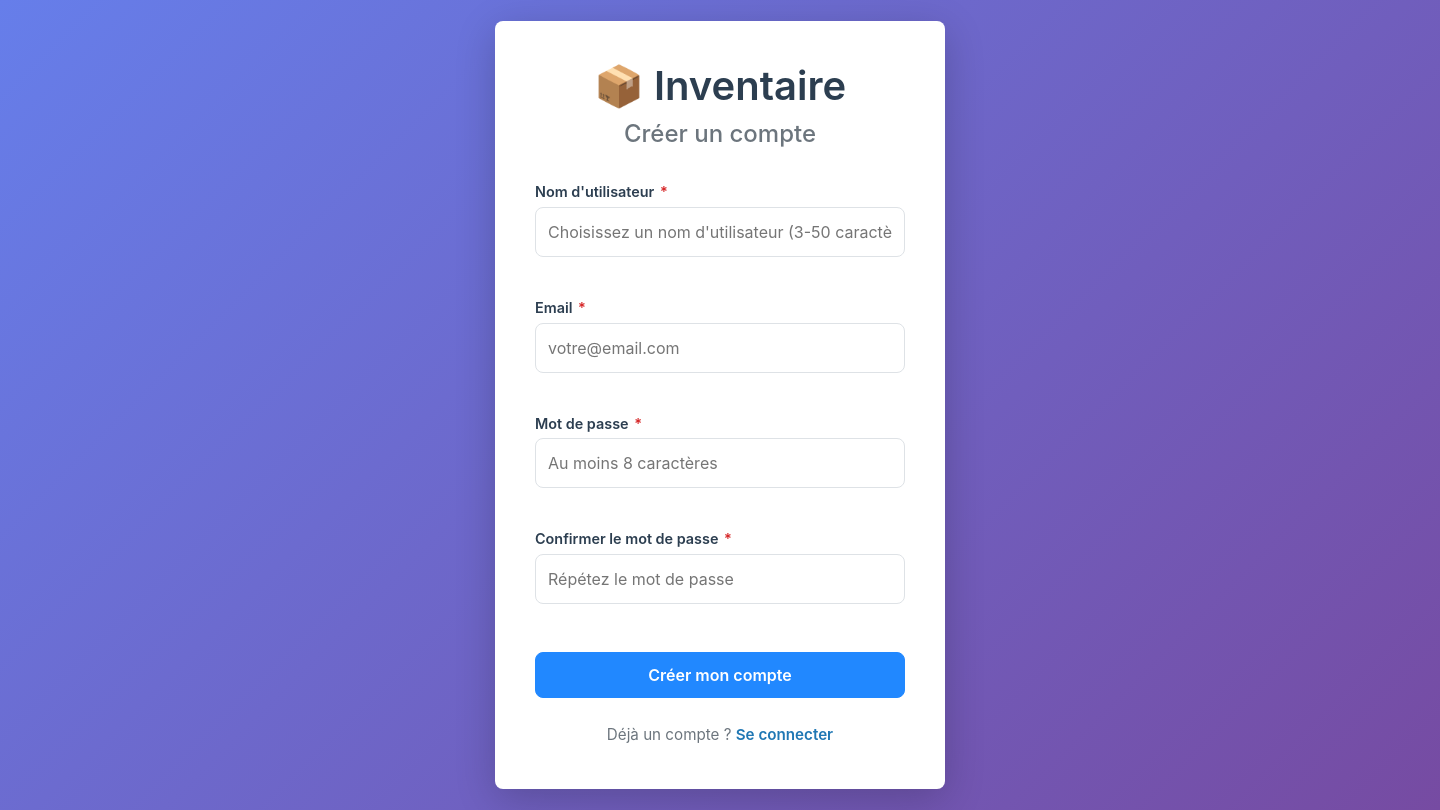
Scenario: Register › affiche une erreur si les mots de passe ne correspondent pas
The image size is (1440, 810).
Step 1. Type "testuser" into the field labelled "Nom d'utilisateur *" → (720, 232), box [535,207,905,257]
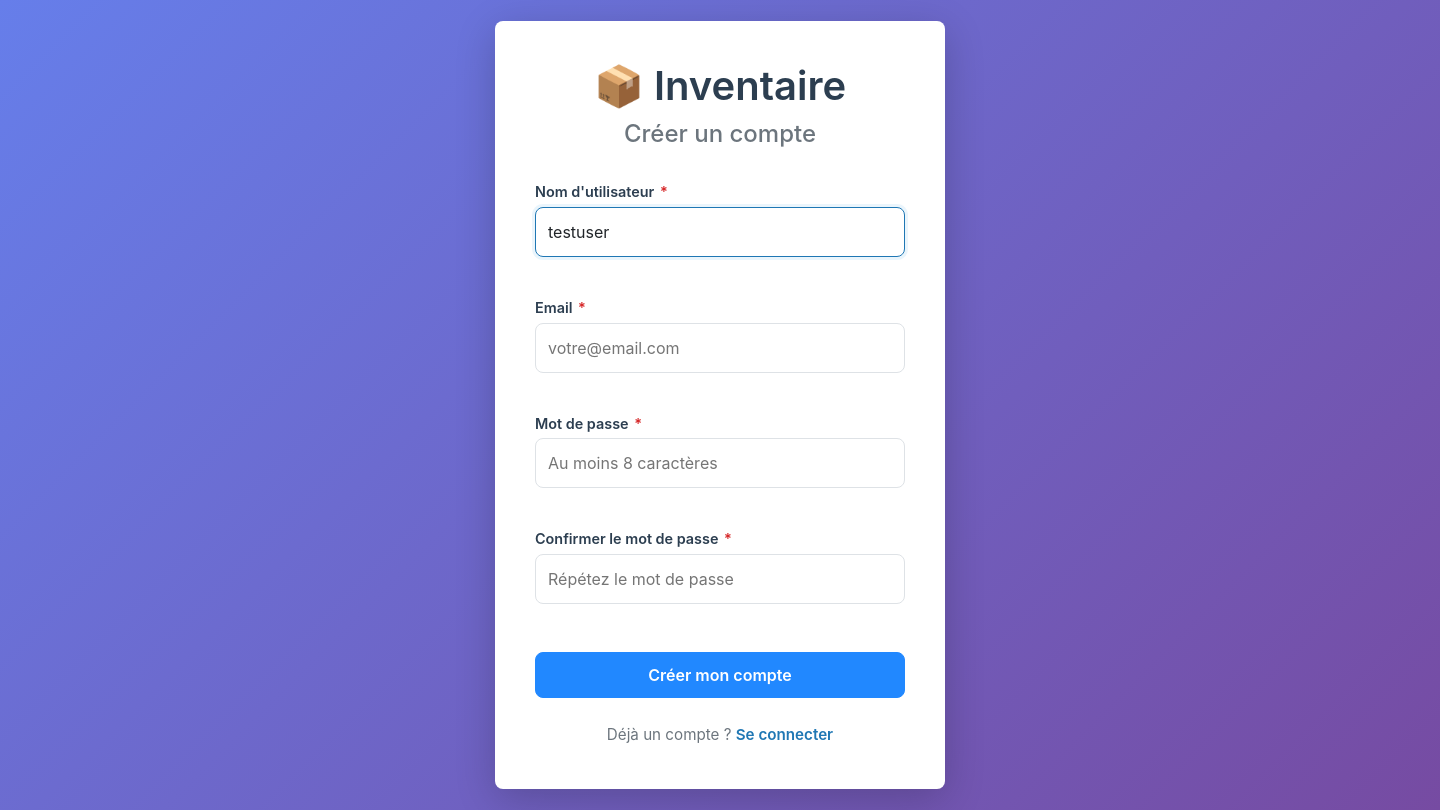
Step 2. Type "test@example.com" into the field labelled "Email *" → (720, 348), box [535,323,905,373]
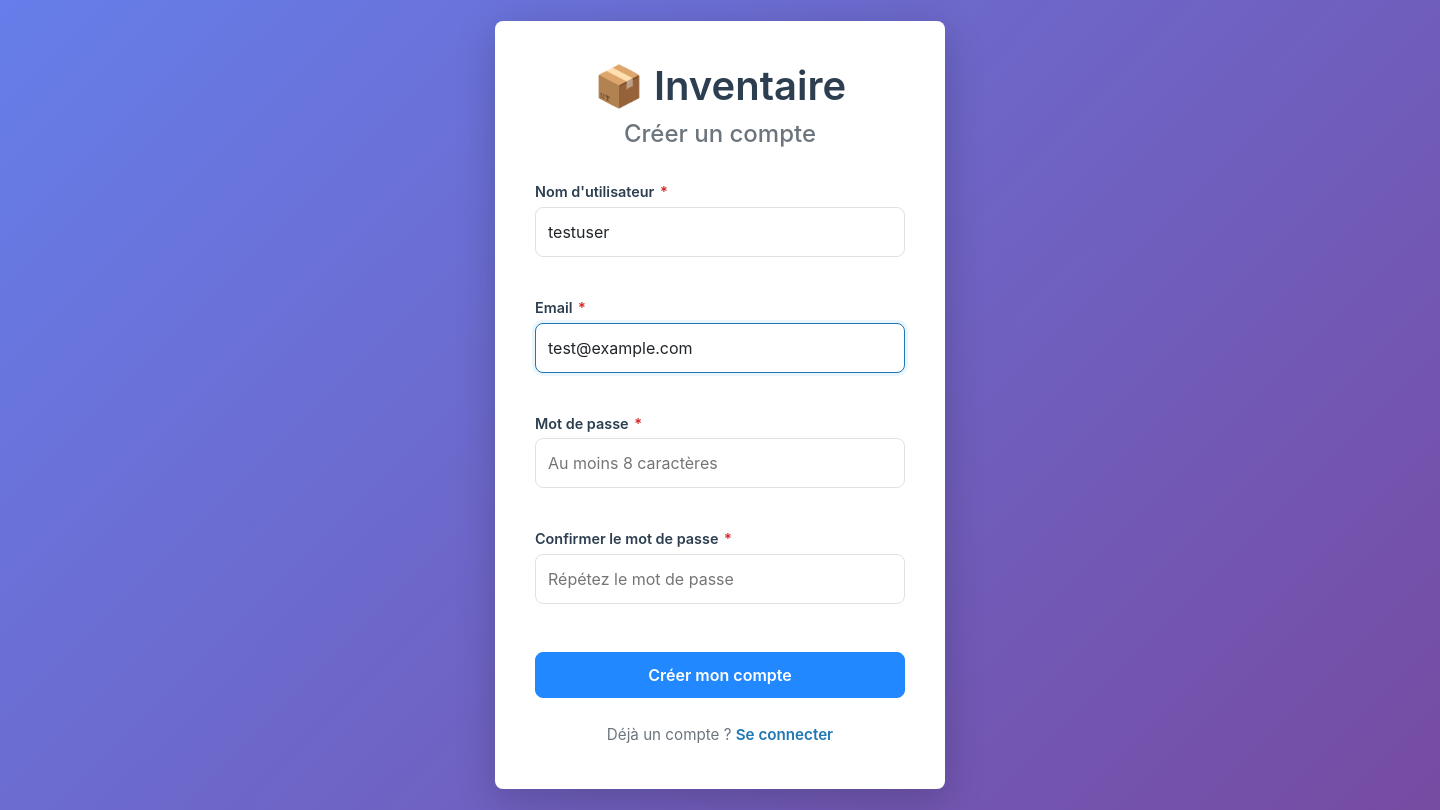
Step 3. Type "password123" into the password field labelled "Mot de passe *" → (720, 463), box [535,438,905,488]
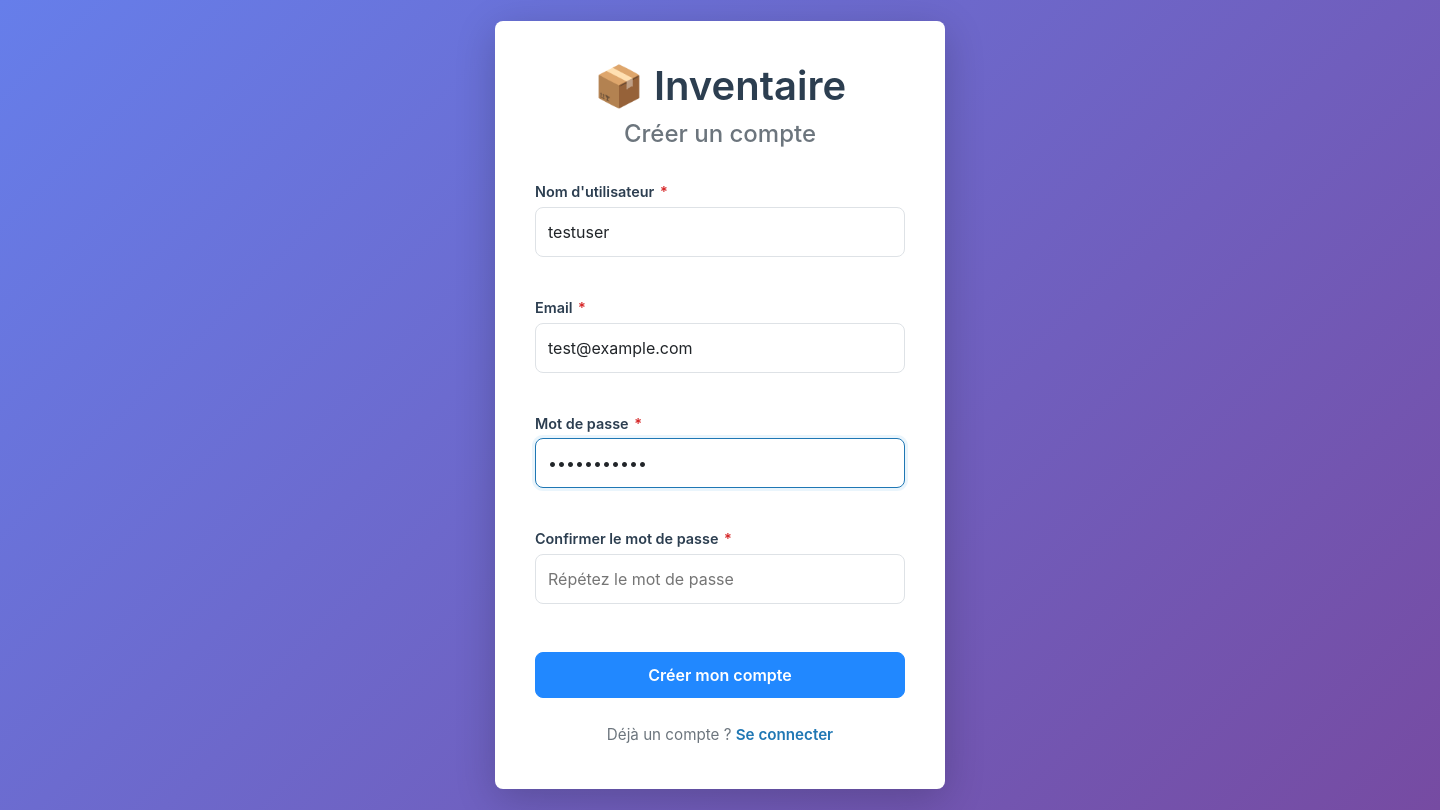
Step 4. Type "password456" into the password field labelled "Confirmer le mot de passe *" → (720, 579), box [535,554,905,604]
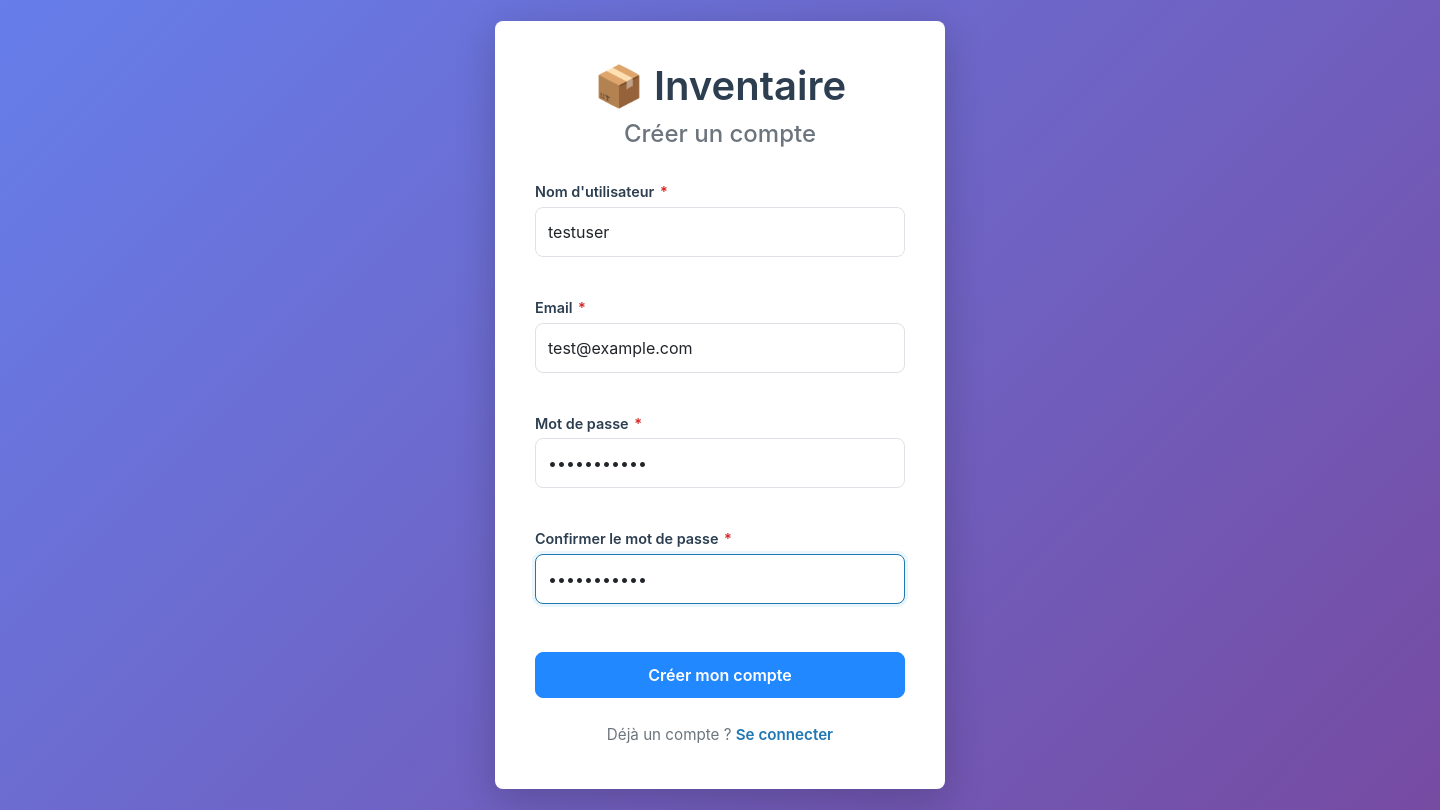
Step 5. Click the button "Créer mon compte" → (720, 675), box [535,652,905,698]
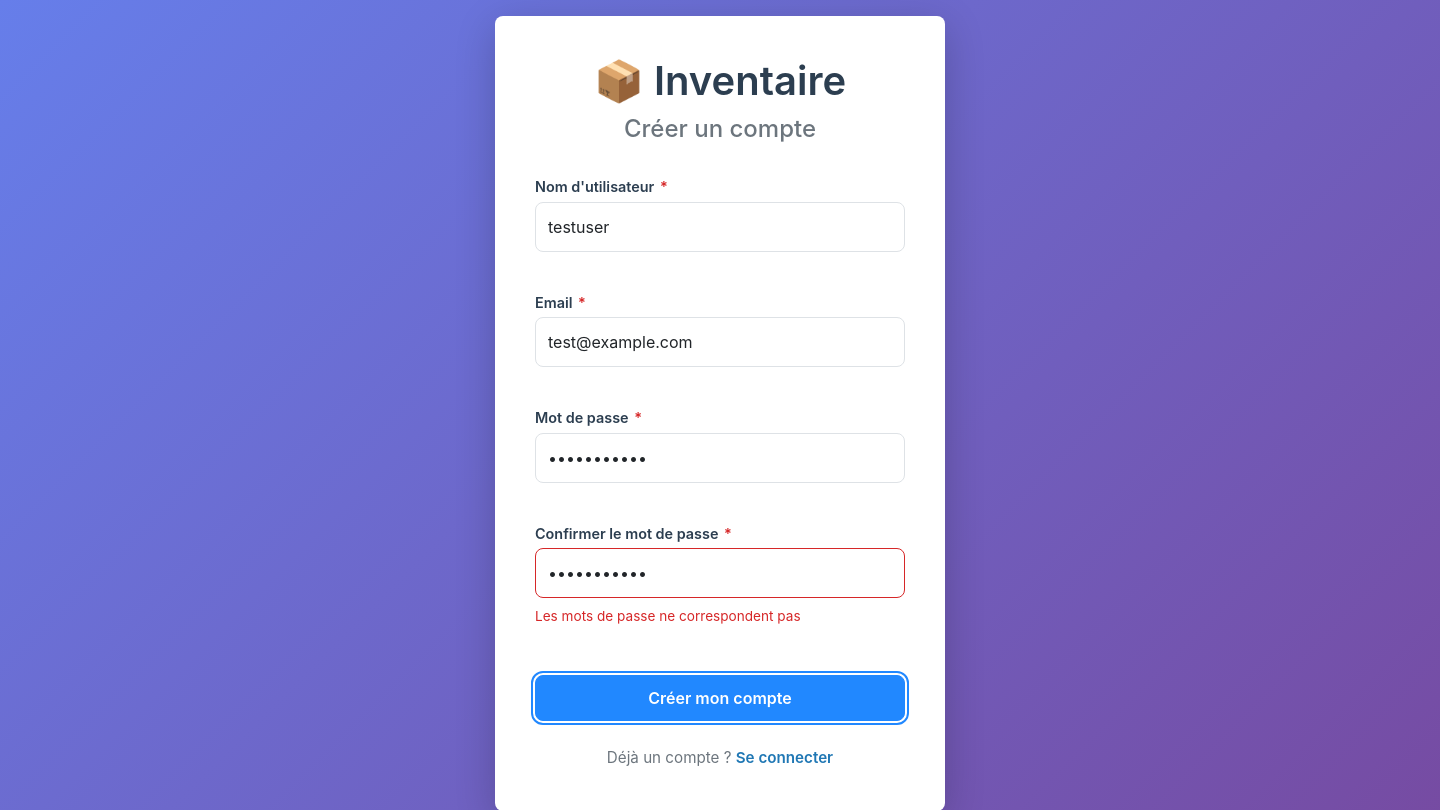
Check: the text "Les mots de passe ne correspondent pas" is shown, box [535,608,801,624]
